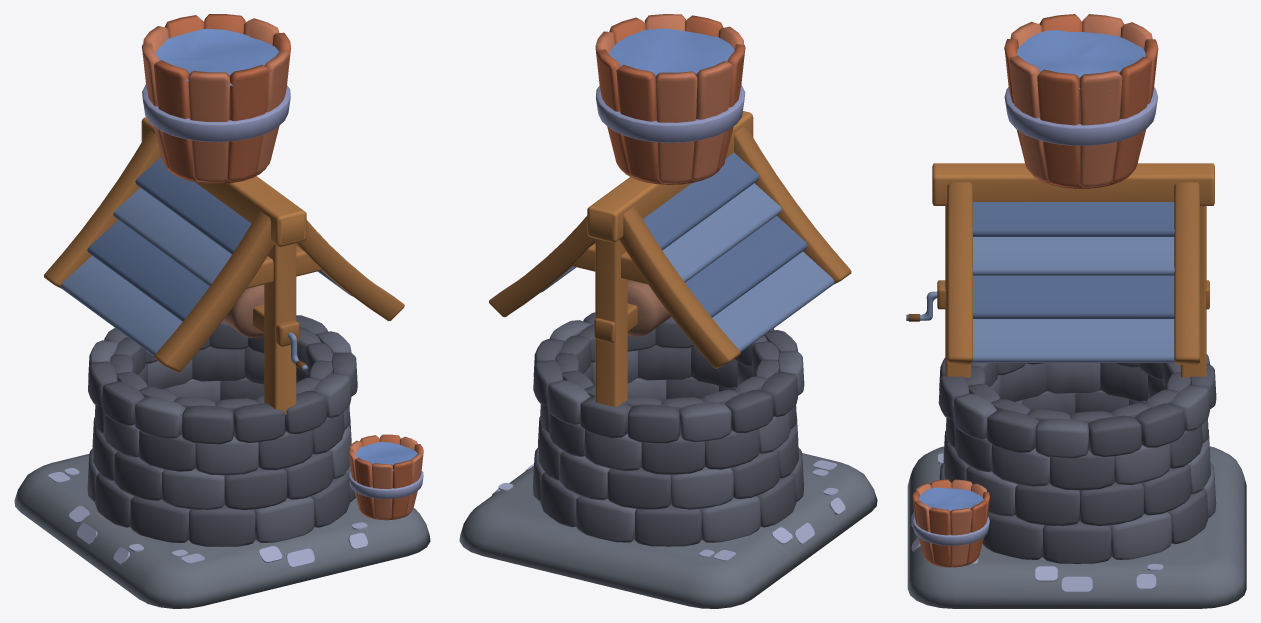
Rendered from Water Well.fbx.
3 views of the same model, side by side, from view 1: azimuth 30°, elevation 25°; view 2: azimuth 150°, elevation 25°; view 3: azimuth 270°, elevation 25° (orthographic). The views are drawn at different scales.
Parts seen in each view (by area): view 1: Water Well.001, Water Well.002, Water Well, Water Well.005, Water Well.004, Water Well.003; view 2: Water Well.001, Water Well.002, Water Well, Water Well.005, Water Well.003; view 3: Water Well.002, Water Well.001, Water Well.005, Water Well, Water Well.004.
Boxes of the visible parts, bbox=[...] form: Water Well.001: bbox=[87, 315, 357, 546]; Water Well.002: bbox=[44, 117, 404, 414]; Water Well: bbox=[14, 453, 430, 608]; Water Well.005: bbox=[142, 14, 290, 183]; Water Well.004: bbox=[348, 434, 423, 520]; Water Well.003: bbox=[223, 284, 308, 371]; Water Well.001: bbox=[533, 312, 804, 546]; Water Well.002: bbox=[489, 111, 851, 406]; Water Well: bbox=[459, 453, 877, 608]; Water Well.005: bbox=[595, 14, 745, 184]; Water Well.003: bbox=[627, 280, 671, 336]; Water Well.002: bbox=[932, 163, 1214, 377]; Water Well.001: bbox=[938, 354, 1216, 563]; Water Well.005: bbox=[1004, 14, 1158, 188]; Water Well: bbox=[907, 446, 1246, 608]; Water Well.004: bbox=[912, 479, 989, 567].
Bounding box in the file's own units: 8.64 × 13.76 × 8.68.
